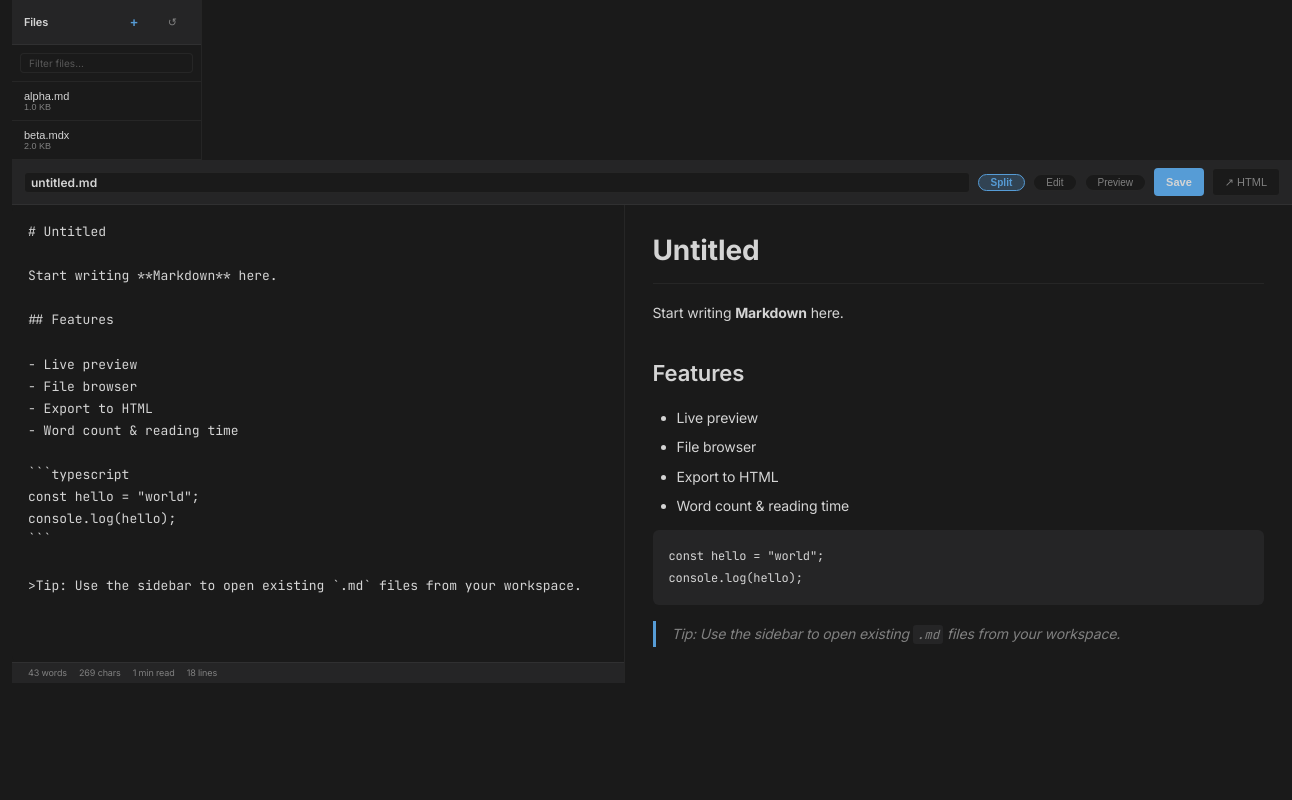
Test: MarkdownPanel — workspace files › Given a workspace, then it lists and filters Markdown files
Check: the button "alpha.md 1.0 KB" is shown, box [12, 82, 201, 121]
Check: the button "beta.mdx 2.0 KB" is shown, box [12, 121, 201, 160]
Step 1. Type "beta" into the field named "Filter Markdown files" → (106, 63), box [20, 53, 193, 73]
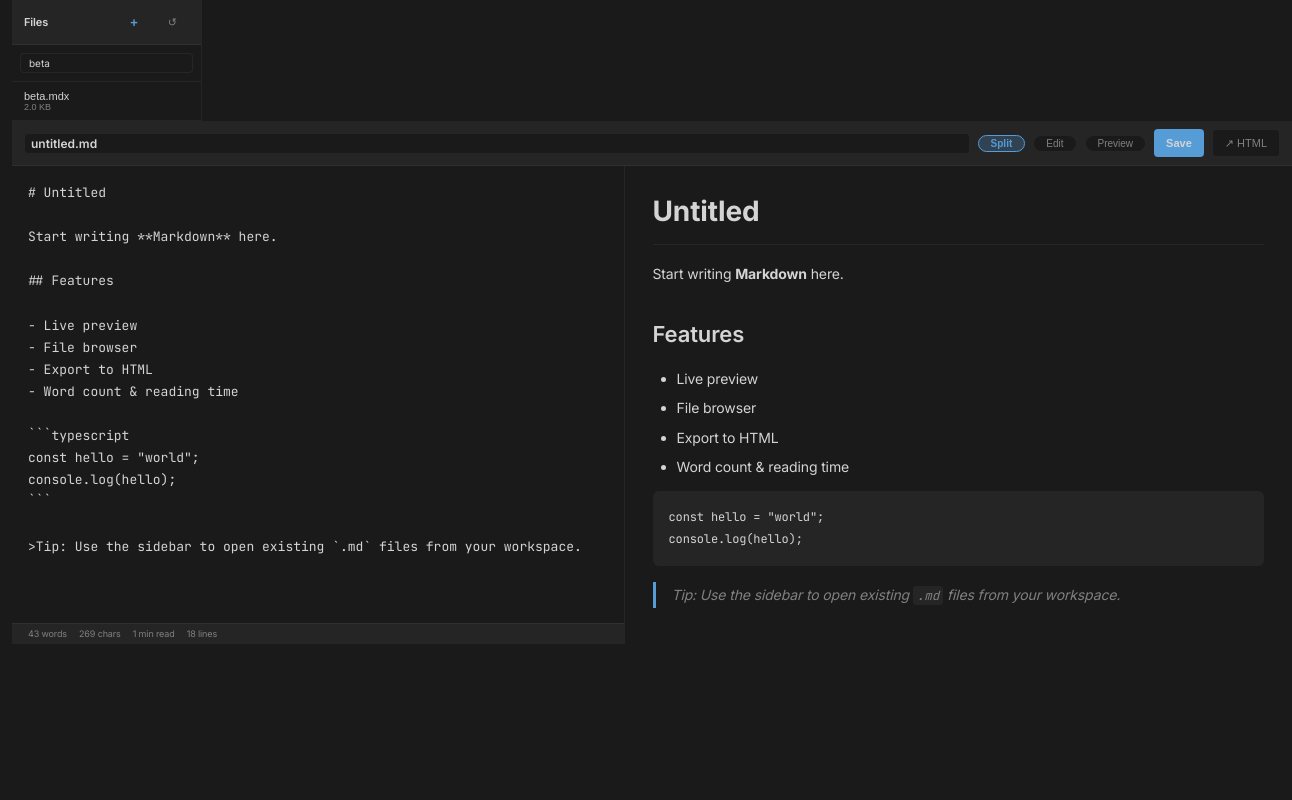
Check: the button "beta.mdx 2.0 KB" is shown, box [12, 82, 201, 121]
Check: the button "alpha.md" is gone
